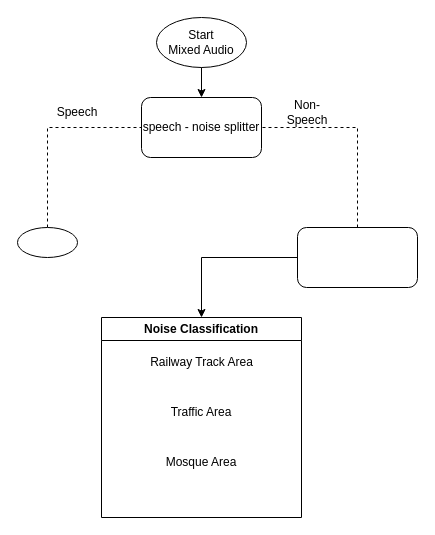
Image size: 435x535. Some labels were removed from this diagram. Each missing label, with the centre of its shape:
"END" belongs at point 47,242.
"Noise Source Separation" belongs at point 357,257.
